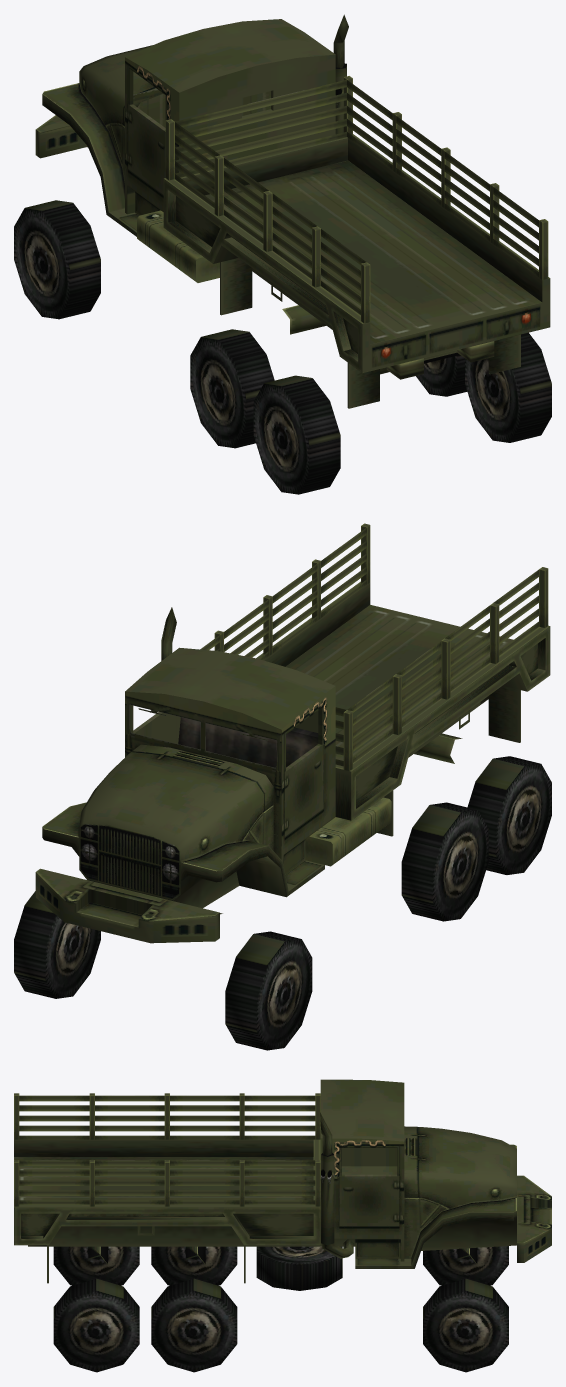
File: US_TRUCK.glb
The picture shows the model from 3 angles, top to bottom: view 1: azimuth 30°, elevation 25°; view 2: azimuth 150°, elevation 25°; view 3: azimuth 270°, elevation 25°; orthographic projection. The views are drawn at different scales.
Parts seen in each view (by area): view 1: USTRUCK, US_TRUCKLEFTWHEEL (×3), US_TRUCKRIGHTWHEEL (×2); view 2: USTRUCK, US_TRUCKLEFTWHEEL (×3), US_TRUCKRIGHTWHEEL; view 3: USTRUCK, US_TRUCKRIGHTWHEEL (×3), US_TRUCKLEFTWHEEL (×3).
Part boxes in pixels (<box>): USTRUCK: <box>35,14,550,408</box>; US_TRUCKLEFTWHEEL (×3): <box>14,200,340,494</box>; US_TRUCKRIGHTWHEEL (×2): <box>416,332,551,442</box>; USTRUCK: <box>35,523,550,943</box>; US_TRUCKLEFTWHEEL (×3): <box>225,756,551,1050</box>; US_TRUCKRIGHTWHEEL: <box>14,891,100,998</box>; USTRUCK: <box>14,1079,551,1290</box>; US_TRUCKRIGHTWHEEL (×3): <box>53,1278,508,1372</box>; US_TRUCKLEFTWHEEL (×3): <box>53,1246,508,1285</box>.
Bounding box in the file's own units: 3.1 × 3.92 × 7.72.
3 materials, 3 textured.
